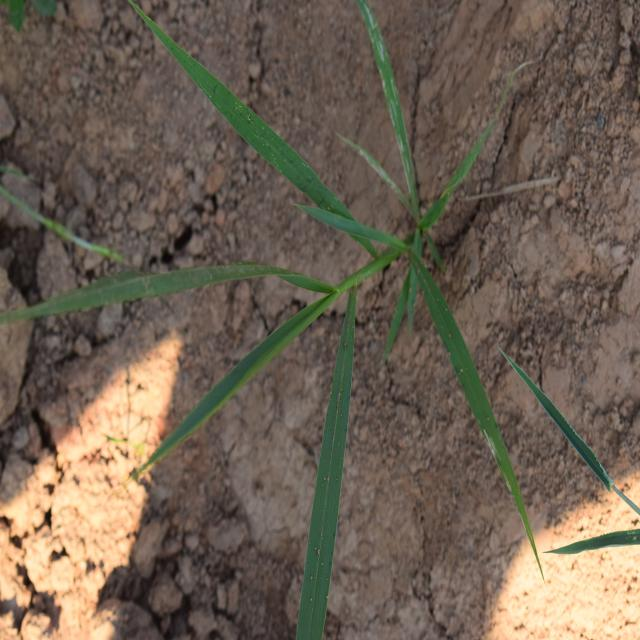green_foxtail: (122, 53, 524, 494)
